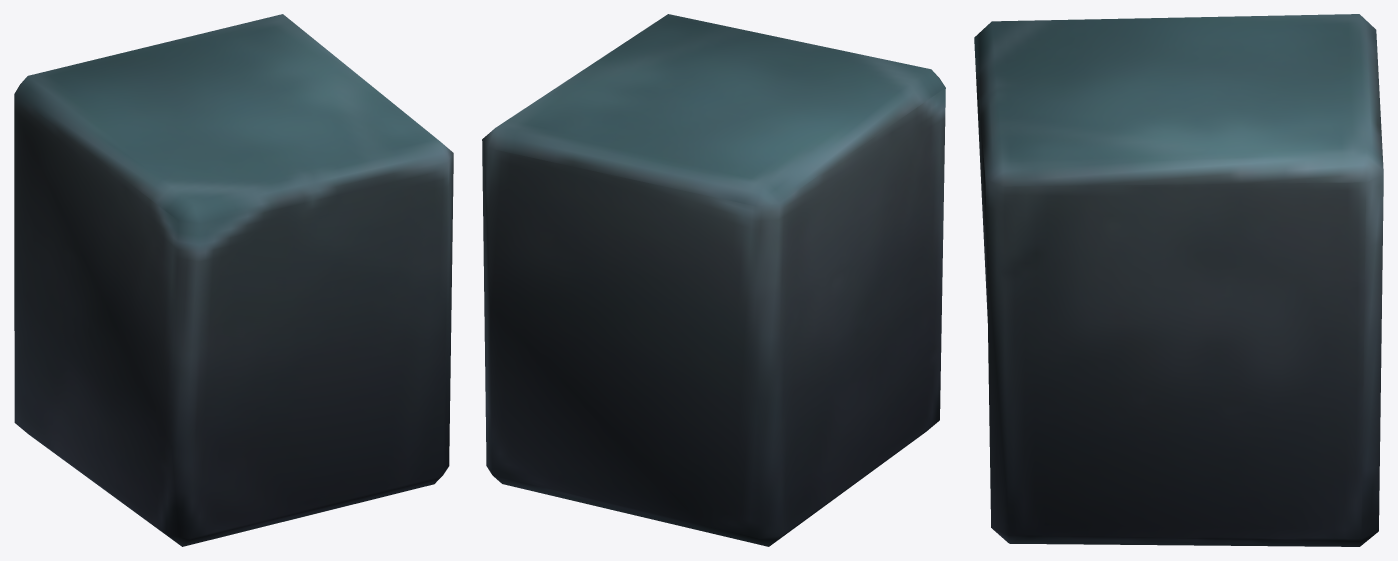
Rendered from SM_Gem_Titanium_Piece_001.fbx.
3 renders of one model, left to right at view 1: azimuth 30°, elevation 25°; view 2: azimuth 150°, elevation 25°; view 3: azimuth 270°, elevation 25°, orthographic. The views are drawn at different scales.
Visible parts, largest first — view 1: SM_Gem_Titanium_Piece_001; view 2: SM_Gem_Titanium_Piece_001; view 3: SM_Gem_Titanium_Piece_001.
Part boxes in pixels (x1,y1,x2,y2): SM_Gem_Titanium_Piece_001: (14, 14, 453, 546); SM_Gem_Titanium_Piece_001: (482, 14, 945, 546); SM_Gem_Titanium_Piece_001: (974, 14, 1383, 546).
Size of the model in its own units: 11.38 by 13.41 by 12.58.
